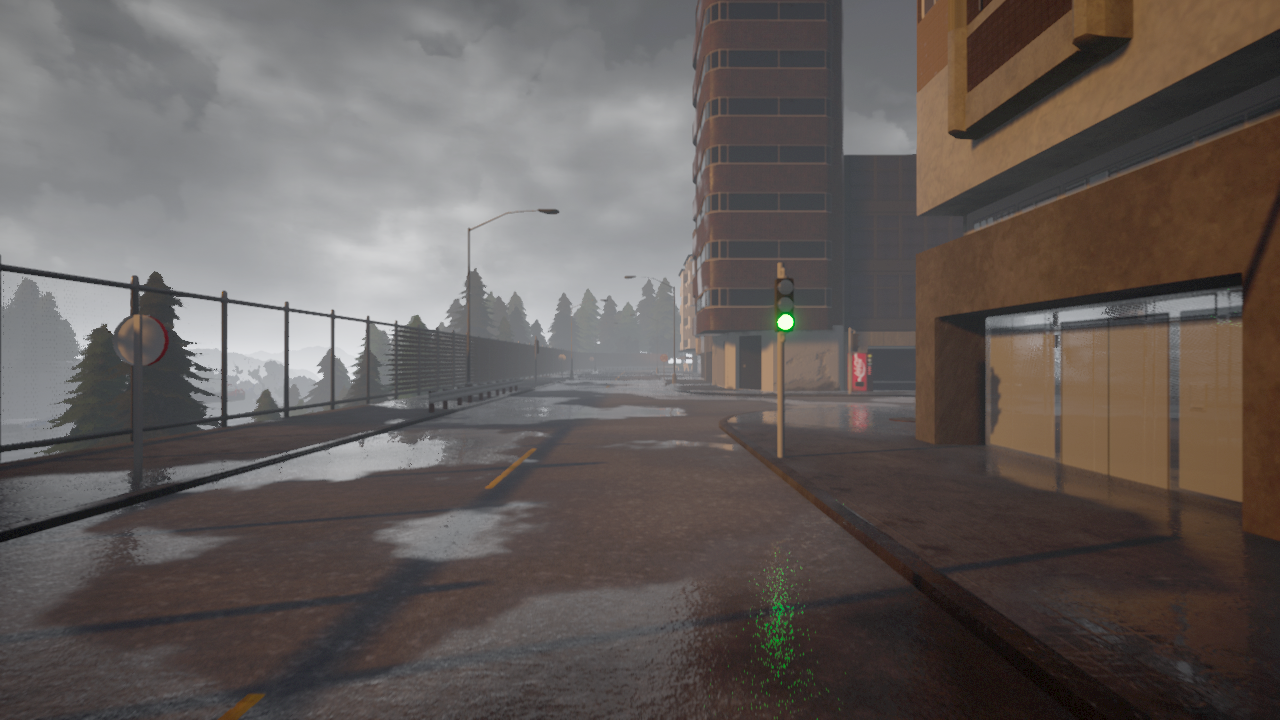green: (773, 277, 796, 333)
